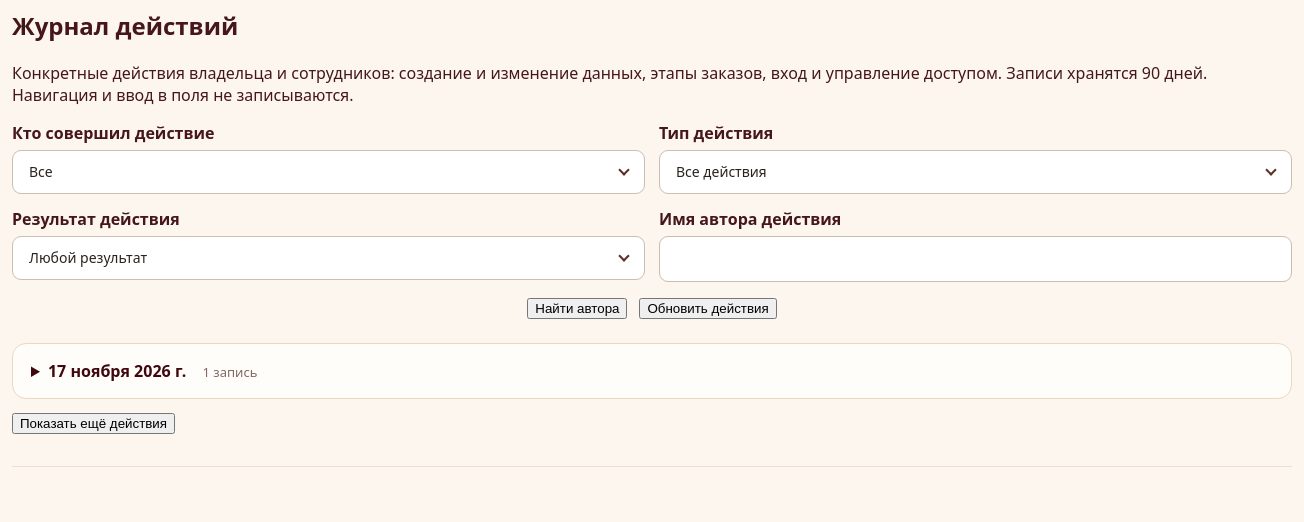
Test case: retrying the same next-page cursor after a network error actually sends the request again
Click the button "Показать ещё действия" at (94, 423), box [12, 413, 175, 434]
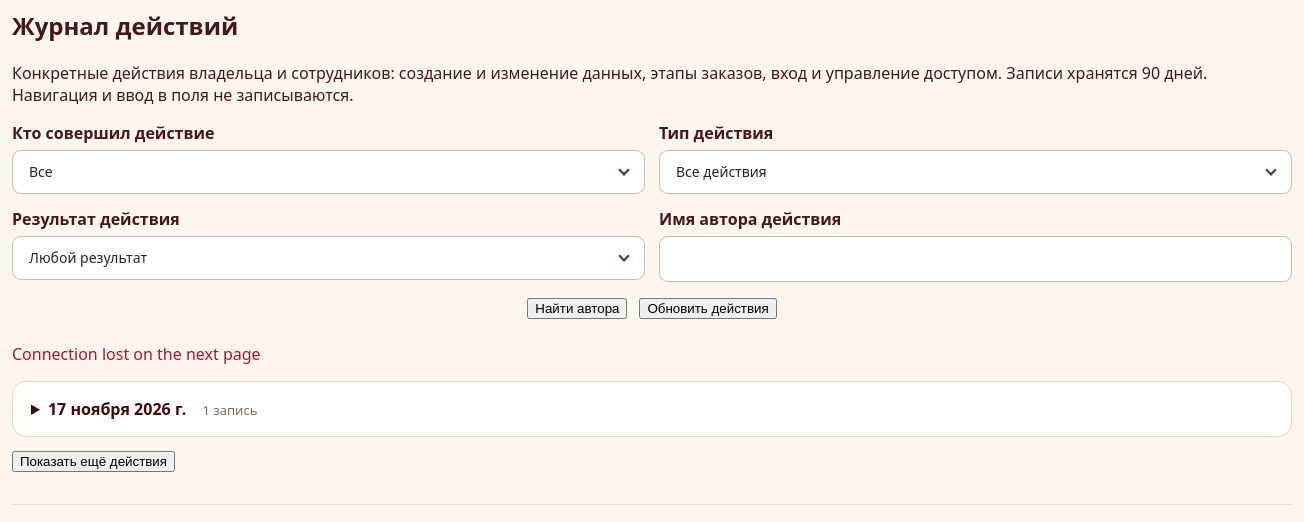
Now the message shows "Connection lost", box [12, 343, 261, 365]
Click the button "Показать ещё действия" at (94, 461), box [12, 451, 175, 472]
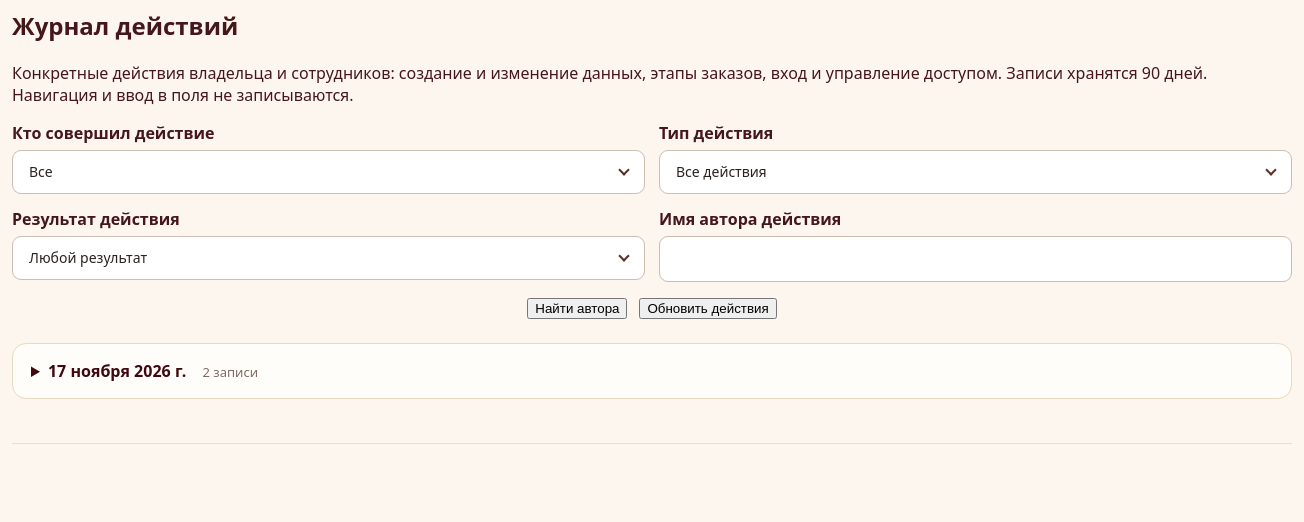
Now the message "Connection lost on the next page" is gone
